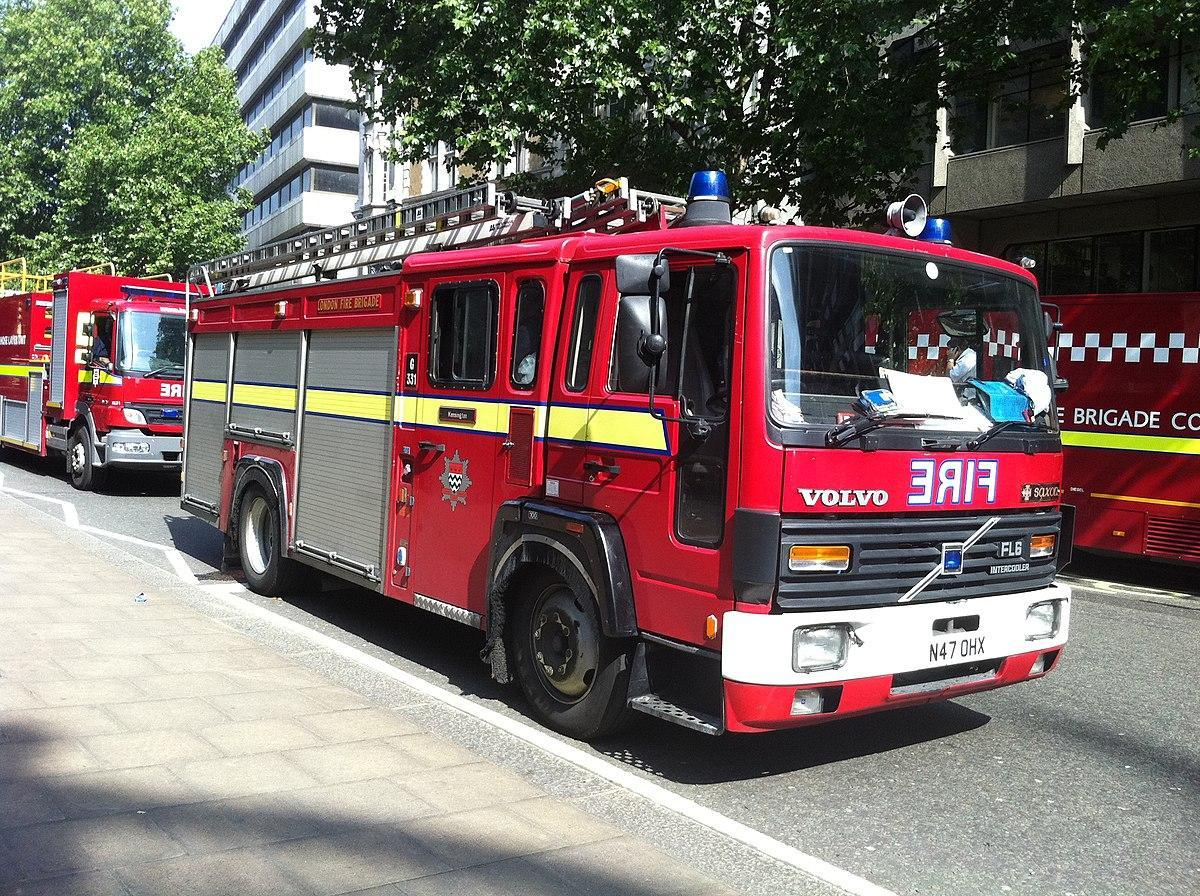Fire-engine: (170, 172, 1078, 745), (192, 137, 684, 300), (886, 441, 1023, 517), (686, 153, 742, 248), (430, 442, 475, 514), (692, 164, 730, 238), (888, 188, 934, 246)
